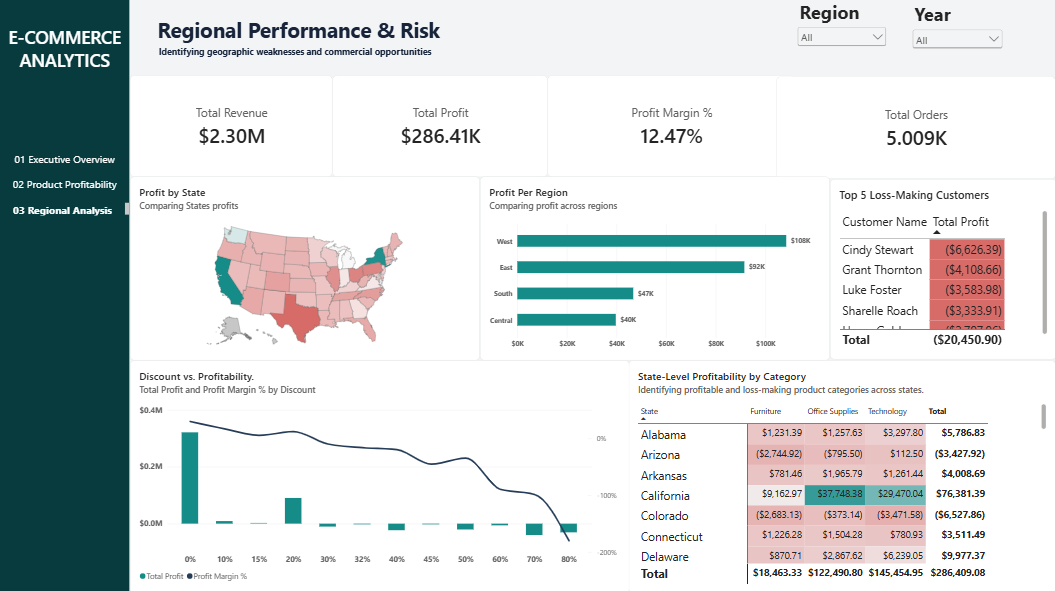

What the dashboard file says about the page in this screenshot:
{"tool":"powerbi","page":{"name":"Page 3","canvas":[1920,1080],"ordinal":2},"visuals":[{"type":"textbox","box":[0,0,235,1079.2],"z":0},{"type":"textbox","box":[0,47.9,235.4,114.6],"z":1000},{"type":"textbox","box":[0,277.1,235.4,31.2],"z":2000},{"type":"textbox","box":[0,322.9,235.4,31.2],"z":3000},{"type":"textbox","box":[0,370.8,235.4,22.9],"z":4000},{"type":"textbox","box":[266.7,16.7,1089.6,66.7],"z":5000},{"type":"slicer","fields":{"Values":["DateTable.Year"]},"box":[1654.2,4.2,172.9,106.2],"z":6000},{"type":"slicer","fields":{"Values":["Orders.Region"]},"box":[1445.8,0,170.8,120.8],"z":7000},{"type":"textbox","box":[289.6,83.3,706.2,22.9],"z":8000},{"type":"cardVisual","fields":{"Data":["Orders.Total Revenue"]},"box":[235.4,137.5,368.8,185.4],"z":9000},{"type":"cardVisual","fields":{"Data":["Orders.Total Profit"]},"box":[604.2,139.6,391.7,185.4],"z":10000},{"type":"cardVisual","fields":{"Data":["Orders.Profit Margin %"]},"box":[995.8,139.6,450,185.4],"z":11000},{"type":"cardVisual","fields":{"Data":["Orders.Total Orders"]},"box":[1412,142,508,186],"z":12000},{"type":"barChart","title":"Profit Per Region","fields":{"Category":["Orders.Region"],"Y":["Orders.Total Profit"]},"box":[872,322,636,334],"z":12001},{"type":"shapeMap","title":"Profit by State","fields":{"Category":["Orders.State"],"Value":["Orders.Total Profit"]},"box":[236,322,636,334],"z":12002},{"type":"lineClusteredColumnComboChart","title":"Discount vs. Profitability.","fields":{"Category":["Orders.Discount"],"Y":["Orders.Total Profit"],"Y2":["Orders.Profit Margin %"]},"box":[236,656,908,424],"z":12003},{"type":"pivotTable","title":"State-Level Profitability by Category","fields":{"Columns":["Orders.Category"],"Rows":["Orders.State"],"Values":["Orders.Total Profit"]},"box":[1144,656,776,424],"z":12004},{"type":"tableEx","title":"Top 5 Loss-Making Customers","fields":{"Values":["Orders.Customer Name","Orders.Total Profit"]},"box":[1508,328,412,328],"z":12005}]}

Visuals, with their boxes on the page's 1920x1080 design canvas (x1, y1, x2, y2). These are canvas units, not pixel positions in the 1055x591 screenshot, which may show the page scaled, cropped or inside an application window:
textbox: BBox(0, 0, 235, 1079)
textbox: BBox(0, 48, 235, 162)
textbox: BBox(0, 277, 235, 308)
textbox: BBox(0, 323, 235, 354)
textbox: BBox(0, 371, 235, 394)
textbox: BBox(267, 17, 1356, 83)
slicer - DateTable.Year: BBox(1654, 4, 1827, 110)
slicer - Orders.Region: BBox(1446, 0, 1617, 121)
textbox: BBox(290, 83, 996, 106)
cardVisual - Orders.Total Revenue: BBox(235, 138, 604, 323)
cardVisual - Orders.Total Profit: BBox(604, 140, 996, 325)
cardVisual - Orders.Profit Margin %: BBox(996, 140, 1446, 325)
cardVisual - Orders.Total Orders: BBox(1412, 142, 1920, 328)
"Profit Per Region" barChart: BBox(872, 322, 1508, 656)
"Profit by State" shapeMap: BBox(236, 322, 872, 656)
"Discount vs. Profitability." lineClusteredColumnComboChart: BBox(236, 656, 1144, 1080)
"State-Level Profitability by Category" pivotTable: BBox(1144, 656, 1920, 1080)
"Top 5 Loss-Making Customers" tableEx: BBox(1508, 328, 1920, 656)
